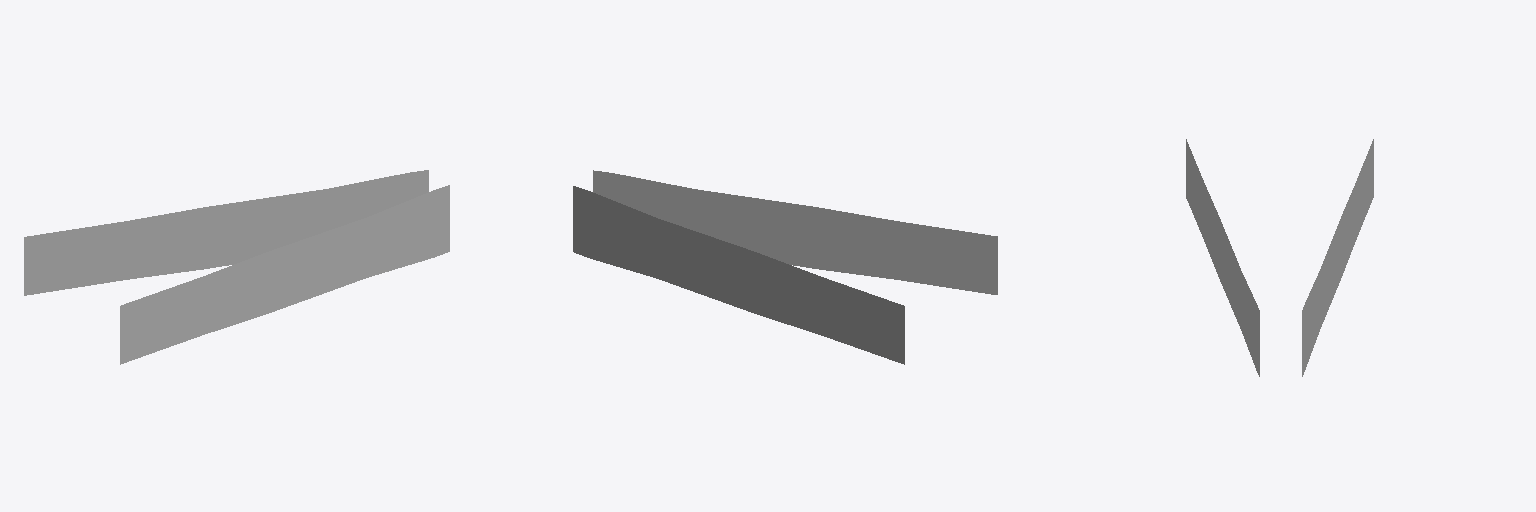
Rendered from lowresscarf.obj.
3 renders of one model, left to right at view 1: azimuth 30°, elevation 25°; view 2: azimuth 150°, elevation 25°; view 3: azimuth 270°, elevation 25°, orthographic.
Parts seen in each view (by area): view 1: Plane; view 2: Plane; view 3: Plane.
Part boxes in pixels (x1,y1,x2,y2): Plane: (24, 170, 449, 364); Plane: (573, 170, 997, 364); Plane: (1186, 139, 1373, 376).
Bounding box in the file's own units: 3.29 × 0.5744 × 1.46.